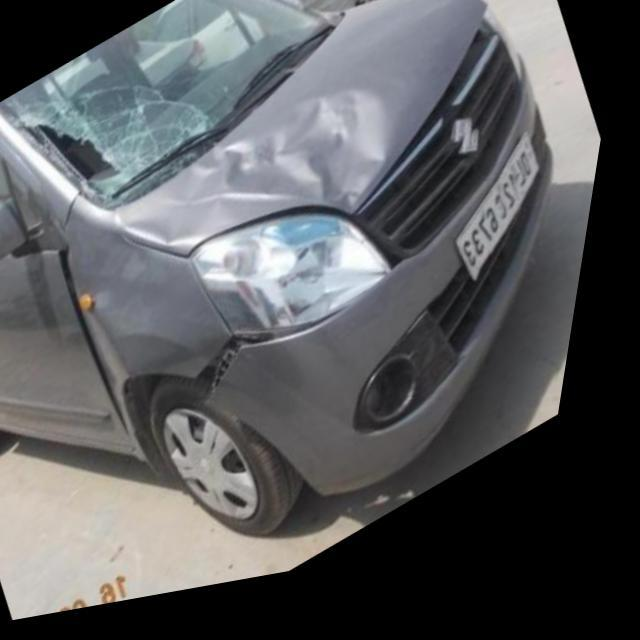dent: (124, 98, 392, 261)
dislocated part: (359, 24, 498, 230), (66, 249, 149, 449), (210, 336, 342, 421)
glass shatter: (11, 85, 227, 218)
